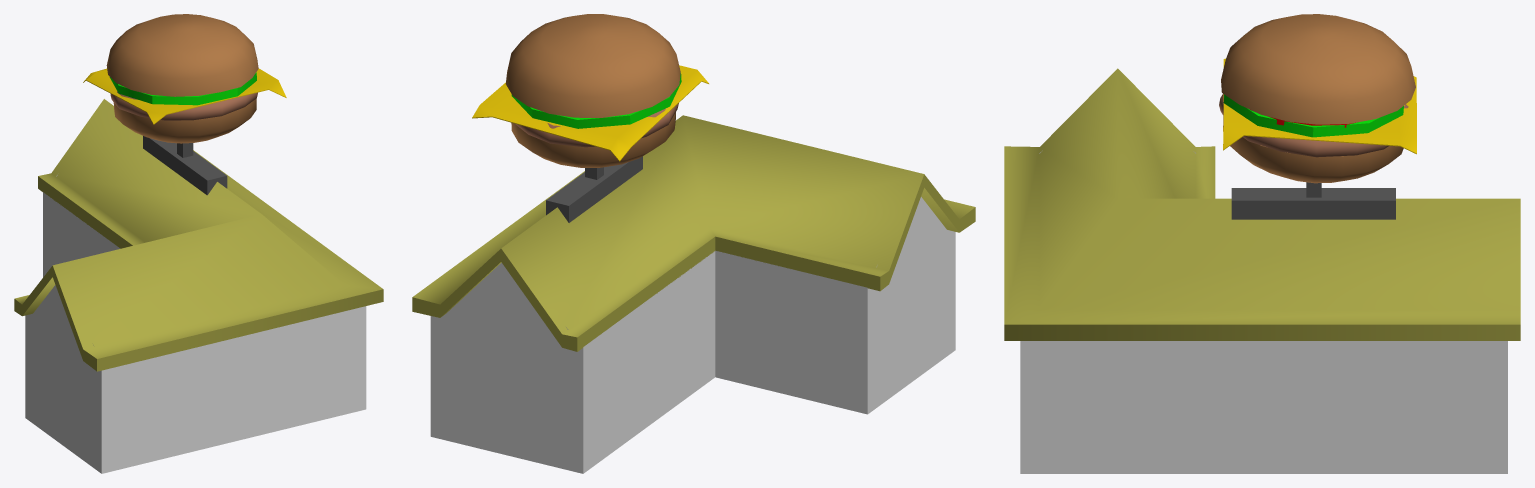
File: Building_BurgerShop_Mod_01.fbx
The picture shows the model from 3 angles, left to right: view 1: azimuth 30°, elevation 25°; view 2: azimuth 150°, elevation 25°; view 3: azimuth 270°, elevation 25°; orthographic projection. The views are drawn at different scales.
Visible parts, largest first — view 1: Buyilding, Burger, Stand; view 2: Buyilding, Burger, Stand; view 3: Buyilding, Burger, Stand.
Part boxes in pixels (bbox=[...]): Buyilding: bbox=[14, 99, 383, 473]; Burger: bbox=[83, 14, 286, 143]; Stand: bbox=[143, 136, 227, 195]; Buyilding: bbox=[412, 115, 975, 473]; Burger: bbox=[472, 14, 708, 167]; Stand: bbox=[546, 156, 642, 222]; Buyilding: bbox=[1004, 68, 1520, 473]; Burger: bbox=[1219, 14, 1416, 183]; Stand: bbox=[1231, 182, 1395, 219].
Bounding box in the file's own units: 8.66 × 9.09 × 10.6.
